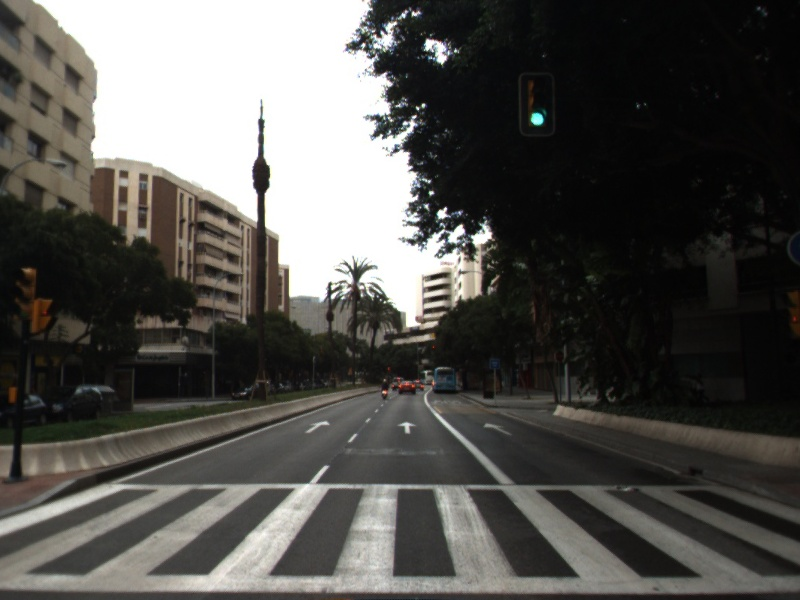STRAIGHT: (480, 420, 516, 438), (303, 418, 333, 435), (395, 419, 419, 436)
